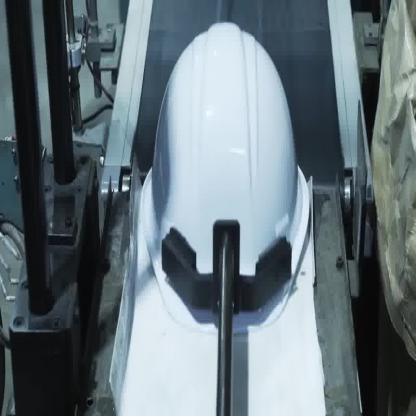helmet: (139, 20, 312, 332)
